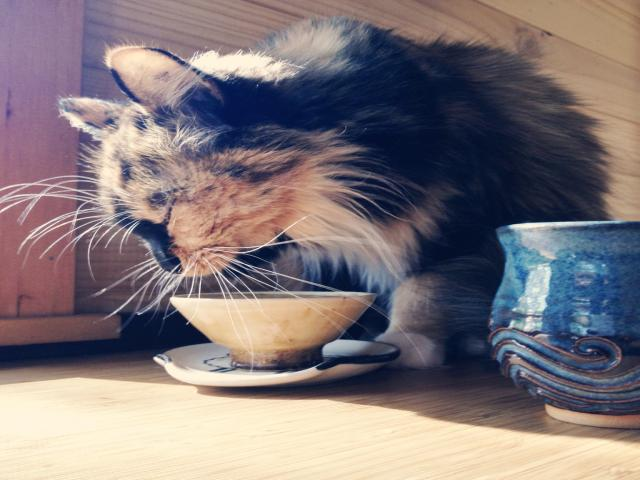Cat: (0, 14, 620, 373)
